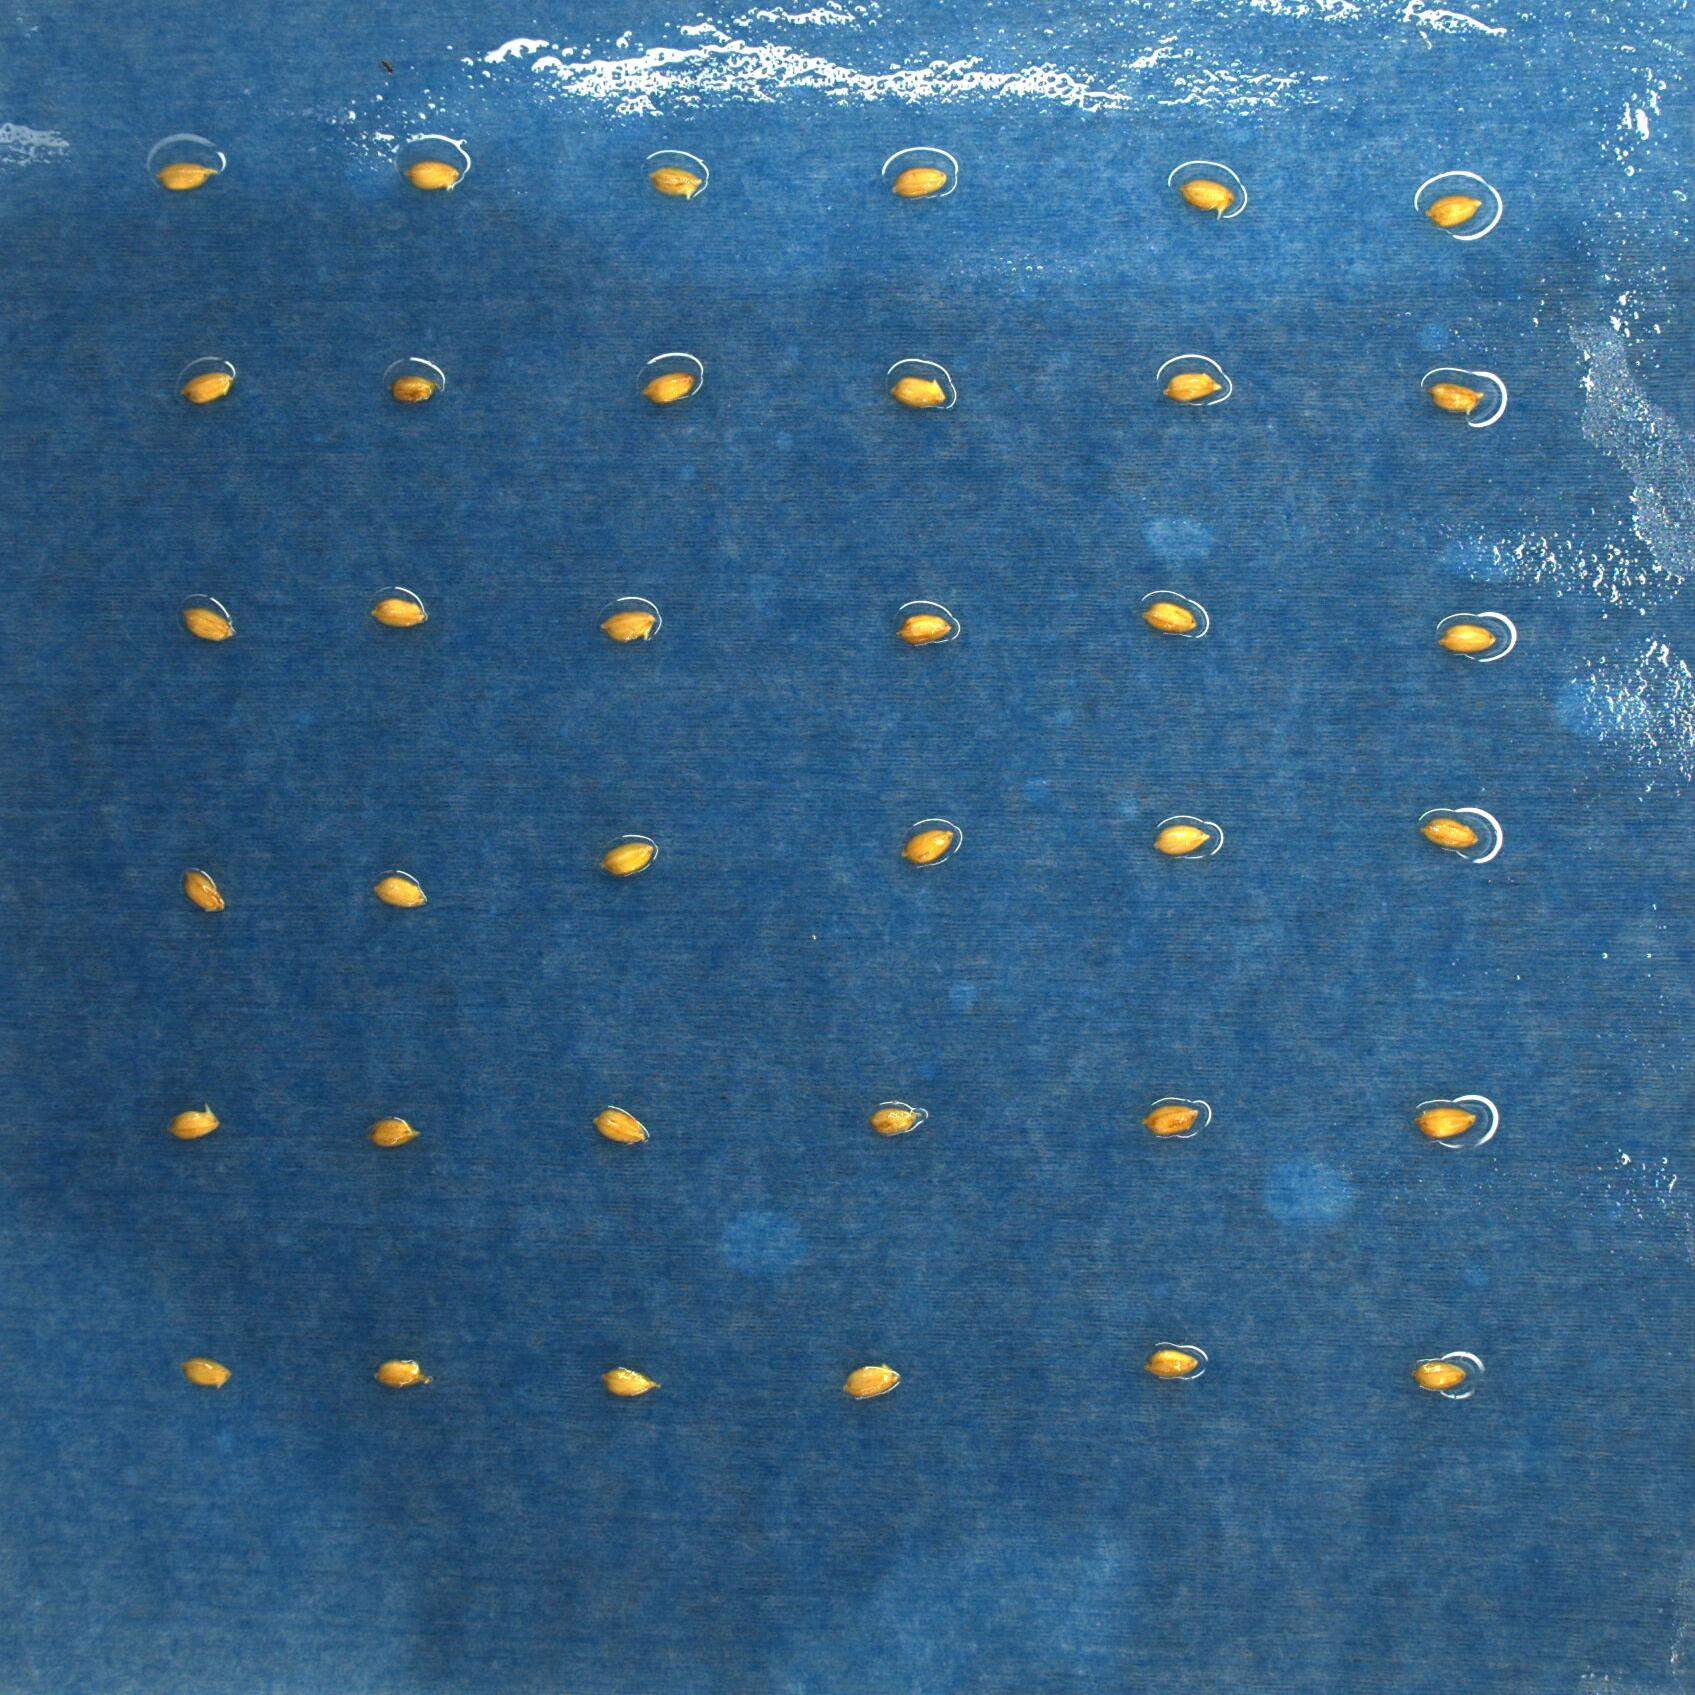not sprout: (587, 1105, 652, 1149), (837, 1363, 903, 1403), (369, 874, 435, 914), (1411, 1104, 1478, 1142), (1422, 189, 1485, 230), (1180, 180, 1240, 220), (596, 608, 658, 647), (1152, 820, 1211, 860), (596, 841, 657, 880), (900, 823, 951, 868), (893, 374, 951, 411), (1142, 601, 1201, 638), (1138, 1104, 1201, 1138), (175, 369, 231, 408), (1422, 816, 1482, 852), (1433, 380, 1485, 421), (1412, 1358, 1471, 1394), (182, 605, 231, 647), (894, 612, 955, 646), (183, 869, 224, 920), (1163, 369, 1220, 405), (1142, 1349, 1201, 1383), (647, 165, 703, 200), (861, 1107, 922, 1139), (1437, 622, 1495, 657), (152, 161, 214, 192), (165, 1108, 222, 1141), (891, 168, 947, 200), (402, 163, 463, 192), (369, 598, 427, 629), (598, 1367, 661, 1395), (369, 1358, 424, 1391), (362, 1116, 418, 1147), (643, 369, 691, 405), (182, 1357, 231, 1389), (386, 374, 435, 405)
